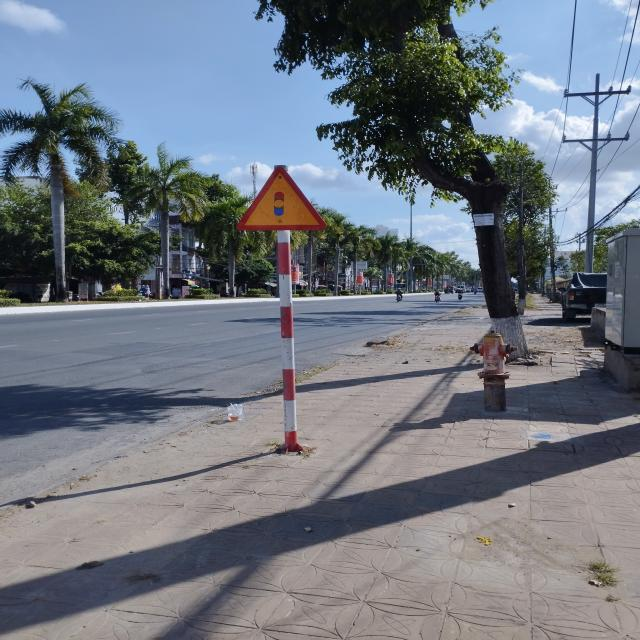Duong_Co_Go_Giam_Toc: (233, 164, 329, 230)
